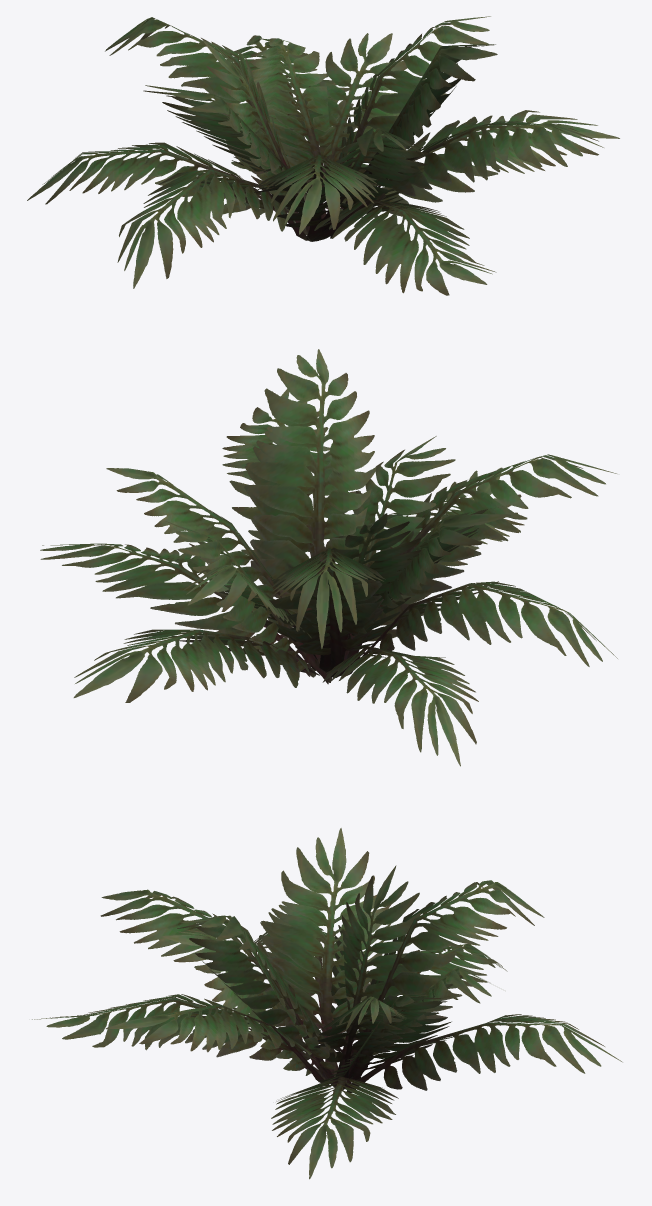
File: sholazar_ferna_dark.obj
The picture shows the model from 3 angles, top to bottom: view 1: azimuth 30°, elevation 25°; view 2: azimuth 150°, elevation 25°; view 3: azimuth 270°, elevation 25°; orthographic projection. The views are drawn at different scales.
Parts seen in each view (by area): view 1: sholazar_ferna_dark; view 2: sholazar_ferna_dark; view 3: sholazar_ferna_dark.
Boxes of the visible parts, x1,y1,x2,y2 form: sholazar_ferna_dark: (27,16,619,295); sholazar_ferna_dark: (40,349,617,766); sholazar_ferna_dark: (32,828,622,1179).
Size of the model in its own units: 4.73 by 1.91 by 5.
Materials: 1 (1 with a texture image).
